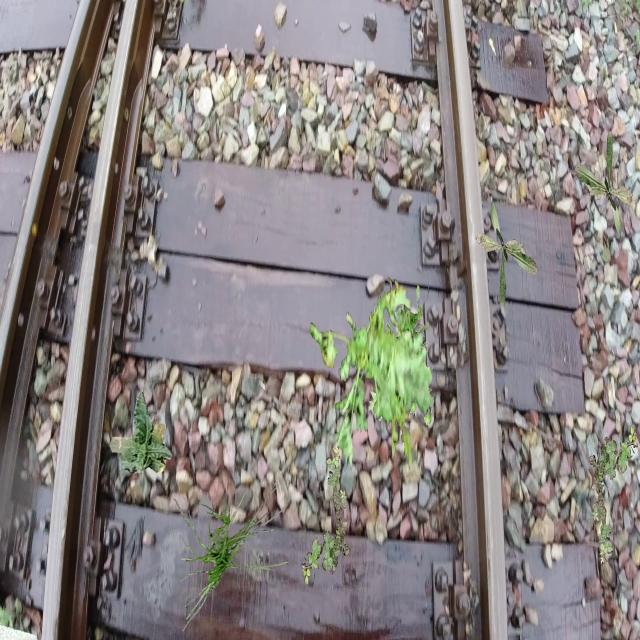Plant: (310, 277, 435, 473), (172, 468, 290, 632), (369, 285, 434, 428), (574, 131, 638, 243), (475, 196, 539, 308), (589, 427, 638, 565), (301, 447, 349, 585), (109, 391, 172, 474)
